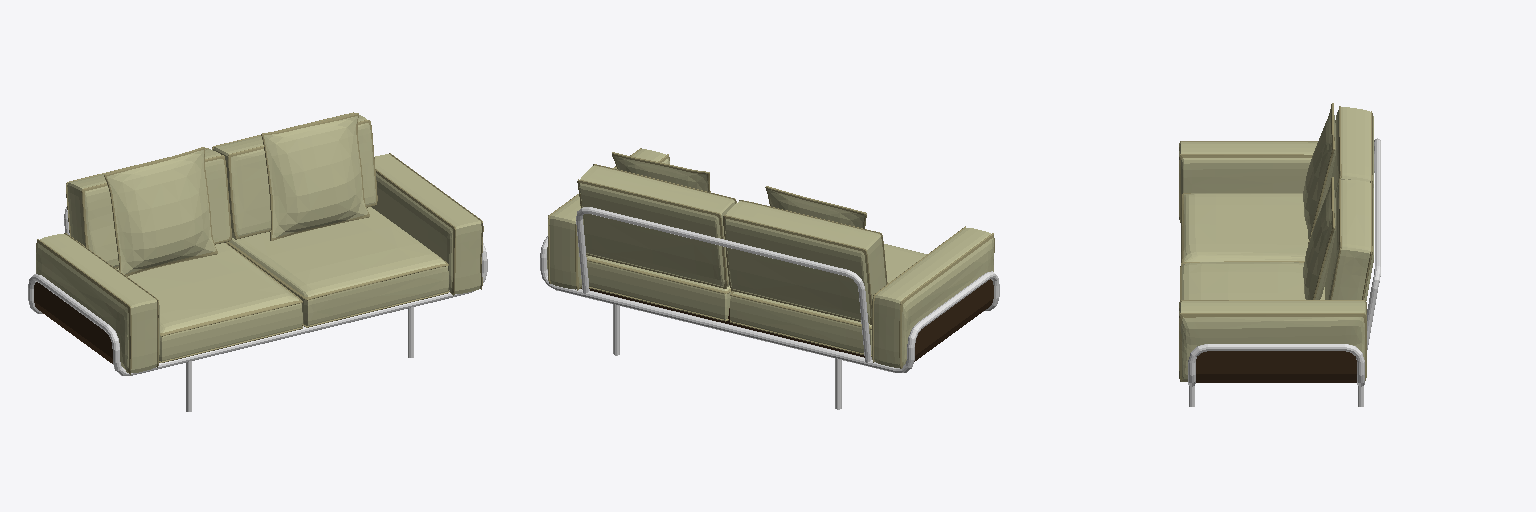
The model's file is IKEA_PS_2012_Three_seat_sofa_white-beige.obj.
3 views of the same model, side by side, from view 1: azimuth 30°, elevation 25°; view 2: azimuth 150°, elevation 25°; view 3: azimuth 270°, elevation 25° (orthographic).
Parts seen in each view (by area): view 1: cushion_base3_Cube.003, cushion_base2_Cube.004, cushion_Cube.007, cushion.001_Cube.006, cushion_base_Cube, cushion_base4_Cube.001, cushion_base5_Cube.005, cushion_base6_Cube.002, structure_Cylinder, cover_Cylinder.001; view 2: cushion_base6_Cube.002, cushion_base5_Cube.005, structure_Cylinder, cushion_base_Cube, cushion_base2_Cube.004, cushion_base3_Cube.003, cushion_base4_Cube.001, cover_Cylinder.001, cushion_Cube.007, cushion.001_Cube.006; view 3: cushion_base4_Cube.001, cushion_base2_Cube.004, cushion_base_Cube, cover_Cylinder.001, cushion_base5_Cube.005, cushion_base3_Cube.003, structure_Cylinder, cushion_base6_Cube.002, cushion.001_Cube.006, cushion_Cube.007.
Boxes of the visible parts, box(x1,y1,x2,y2) form: cushion_base3_Cube.003: box(225, 207, 448, 327); cushion_base2_Cube.004: box(117, 243, 302, 362); cushion_Cube.007: box(104, 147, 217, 276); cushion.001_Cube.006: box(261, 113, 369, 240); cushion_base_Cube: box(36, 233, 159, 374); cushion_base4_Cube.001: box(372, 153, 483, 295); cushion_base5_Cube.005: box(212, 112, 377, 239); cushion_base6_Cube.002: box(66, 148, 231, 268); structure_Cylinder: box(28, 207, 487, 411); cover_Cylinder.001: box(34, 282, 112, 363); cushion_base6_Cube.002: box(723, 200, 887, 324); cushion_base5_Cube.005: box(577, 164, 736, 288); structure_Cylinder: box(540, 207, 999, 409); cushion_base_Cube: box(871, 226, 994, 368); cushion_base2_Cube.004: box(730, 244, 926, 356); cushion_base3_Cube.003: box(586, 255, 732, 321); cushion_base4_Cube.001: box(547, 148, 669, 290); cover_Cylinder.001: box(581, 279, 993, 361); cushion_Cube.007: box(765, 186, 866, 228); cushion.001_Cube.006: box(612, 152, 710, 191); cushion_base4_Cube.001: box(1179, 300, 1366, 381); cushion_base2_Cube.004: box(1181, 193, 1308, 263); cushion_base_Cube: box(1179, 141, 1317, 222); cover_Cylinder.001: box(1196, 351, 1356, 382); cushion_base5_Cube.005: box(1325, 179, 1373, 300); cushion_base3_Cube.003: box(1180, 262, 1324, 299); structure_Cylinder: box(1188, 138, 1380, 406); cushion_base6_Cube.002: box(1330, 106, 1373, 196); cushion.001_Cube.006: box(1303, 177, 1335, 299); cushion_Cube.007: box(1303, 103, 1335, 244).
Bounding box in the file's own units: 2.21 × 1.08 × 1.04.